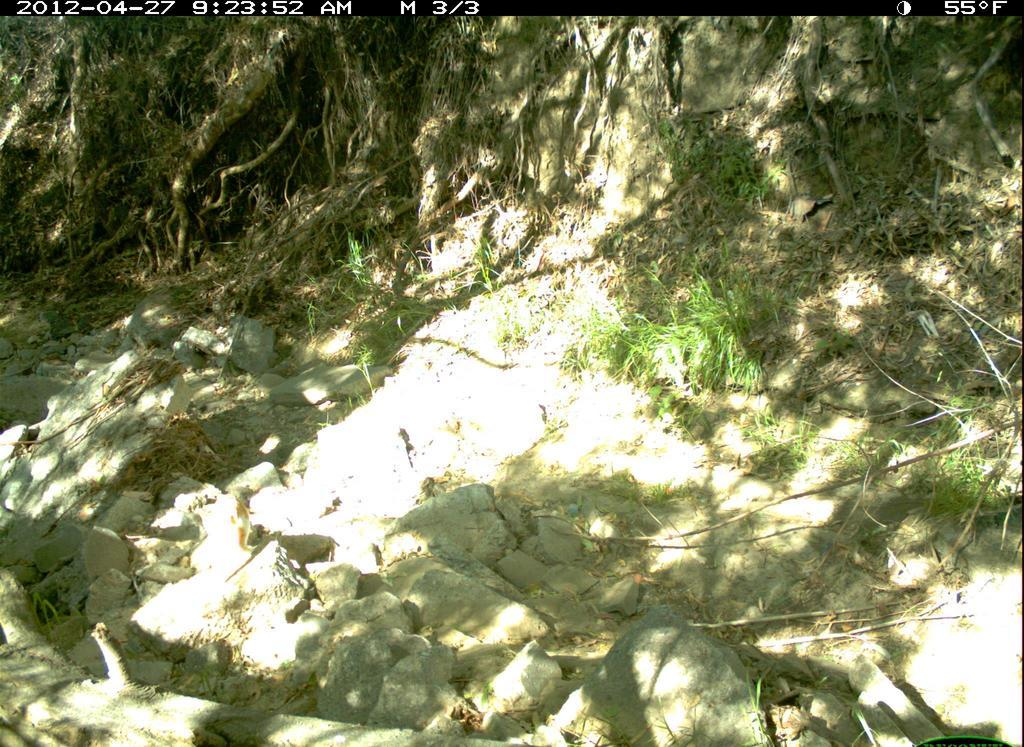cat: (194, 484, 263, 597)
